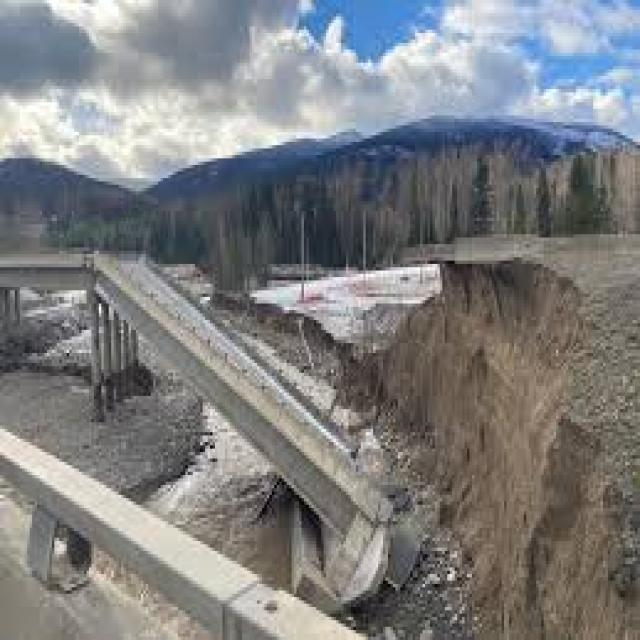bridge collapse: (17, 163, 640, 568)
